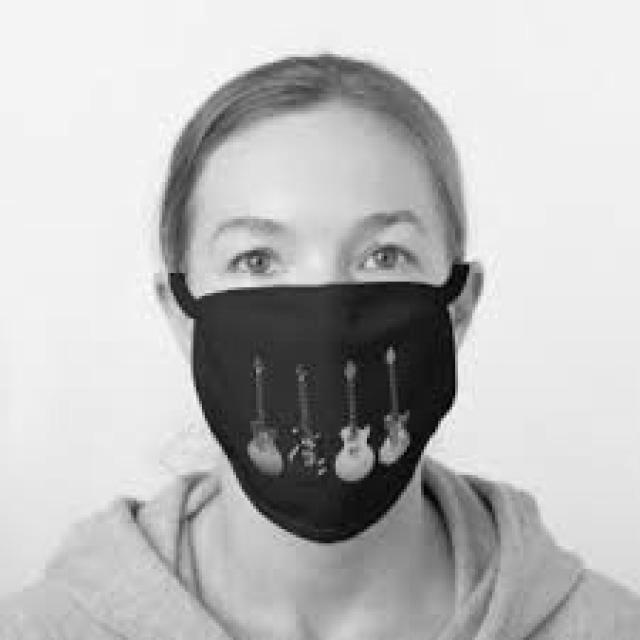fake: (187, 271, 461, 542)
real: (200, 115, 446, 547)
